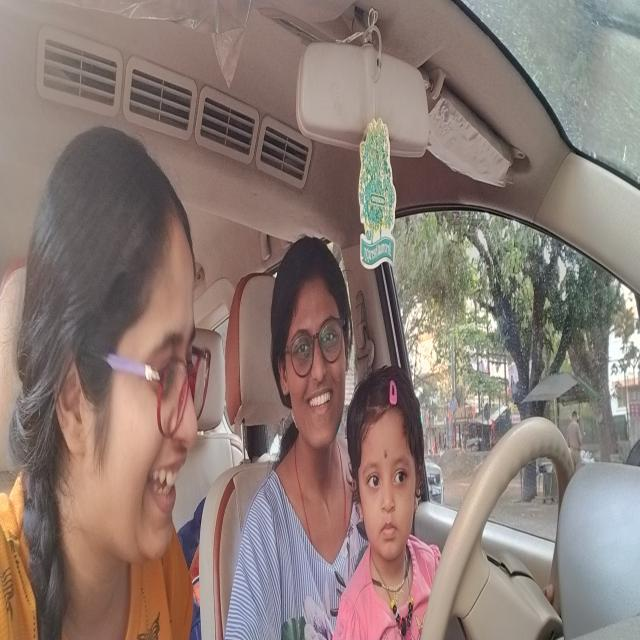child: (345, 363, 427, 564)
person: (14, 111, 210, 570), (269, 229, 356, 472)
